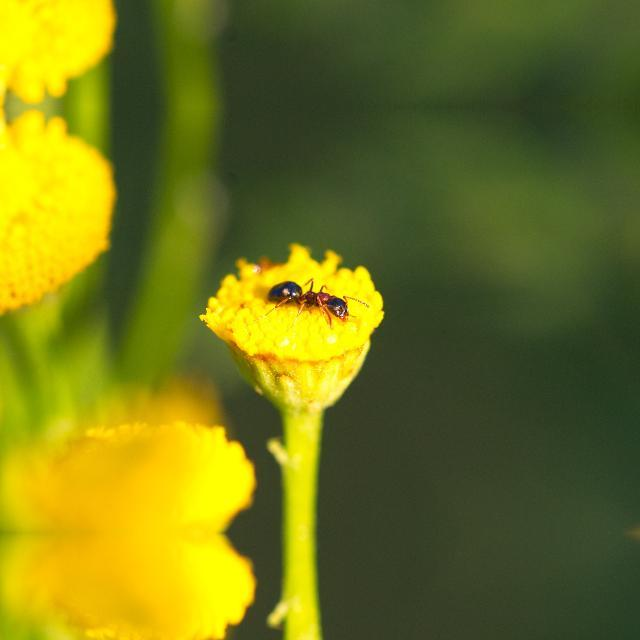Dolichoderus: (254, 268, 370, 324)
